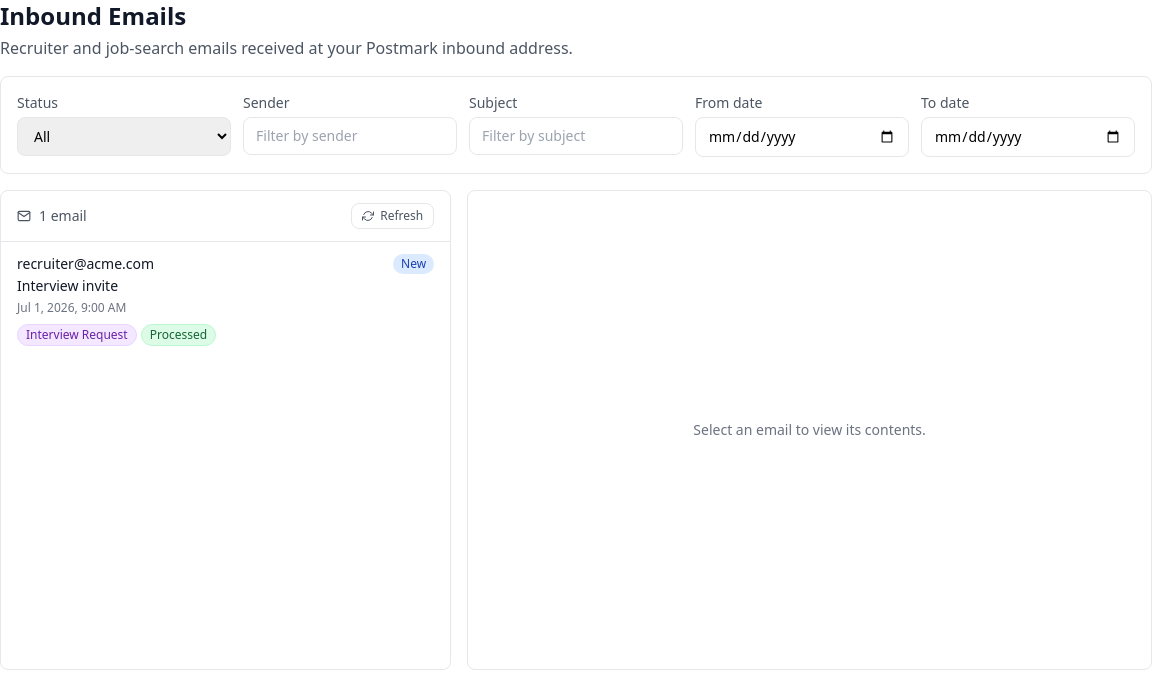
Test case: InboundEmailsPage › renders list and detail after selecting an email
Expected: the text "Interview invite" is shown, 17,276 -> 118,295
Expected: the text "Processed" is shown, 141,324 -> 216,346
Click the button "recruiter@acme.com". click: x=86, y=264
box: 1,242 -> 450,358
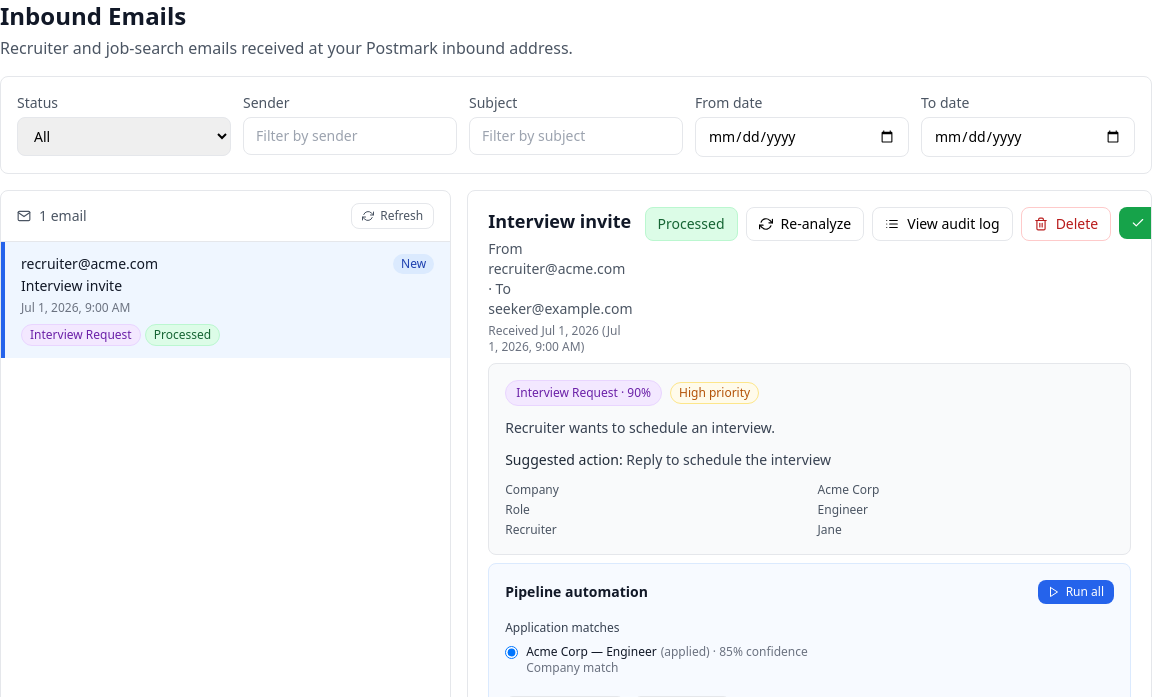
Now the button "Re-analyze" is shown, box 746,207 -> 864,241
